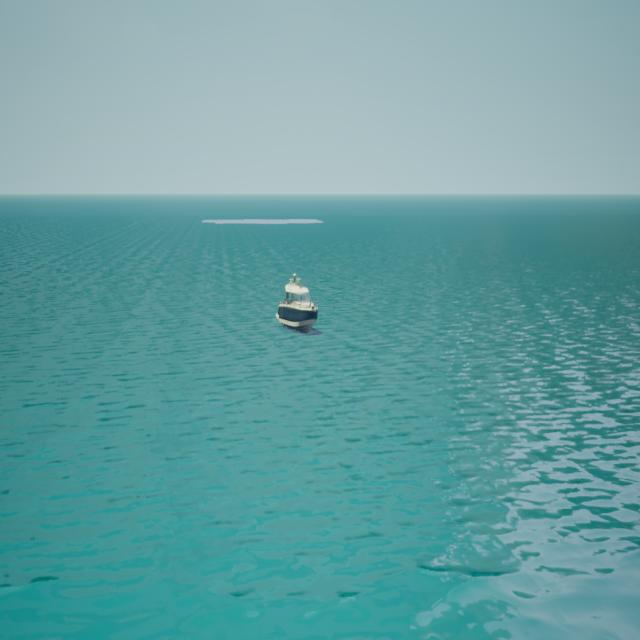ship: (276, 271, 320, 330)
